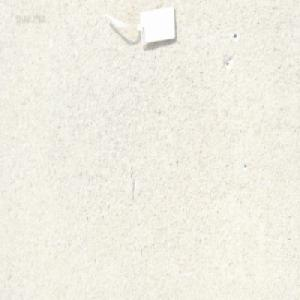LuggageTag: (102, 4, 177, 51)
